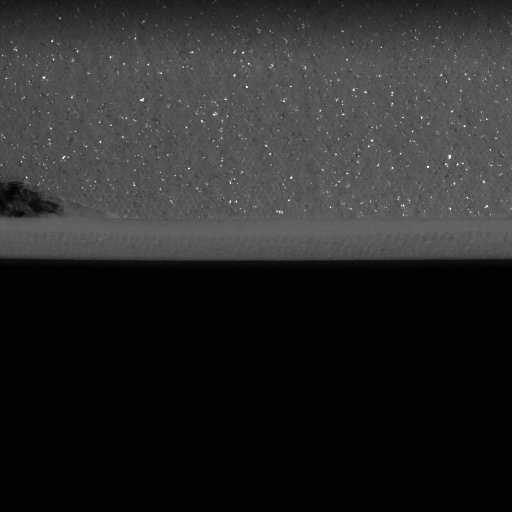bengque: (0, 180, 71, 222)
